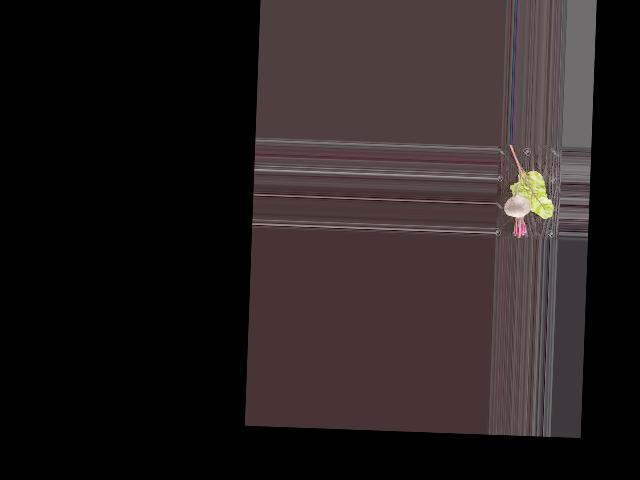beet: (502, 171, 531, 239)
